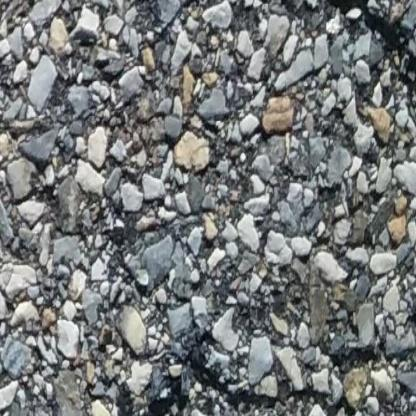Cracks: (214, 0, 416, 79)
